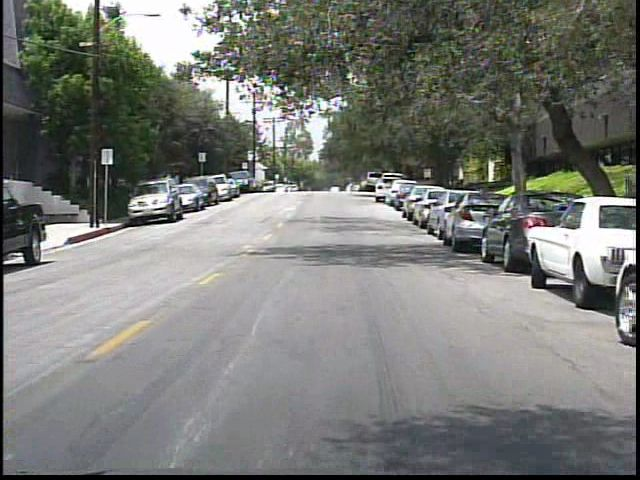car: (513, 190, 640, 310), (1, 172, 50, 265), (431, 179, 489, 256), (125, 177, 182, 220), (371, 177, 411, 210), (179, 184, 199, 210)
strada: (185, 188, 431, 474)
